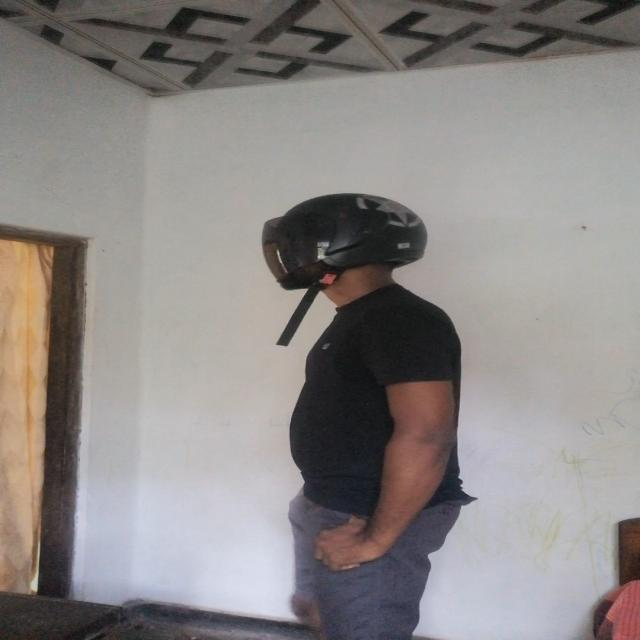Helmet_Wearer: (243, 188, 440, 322)
Person: (228, 186, 480, 640)
